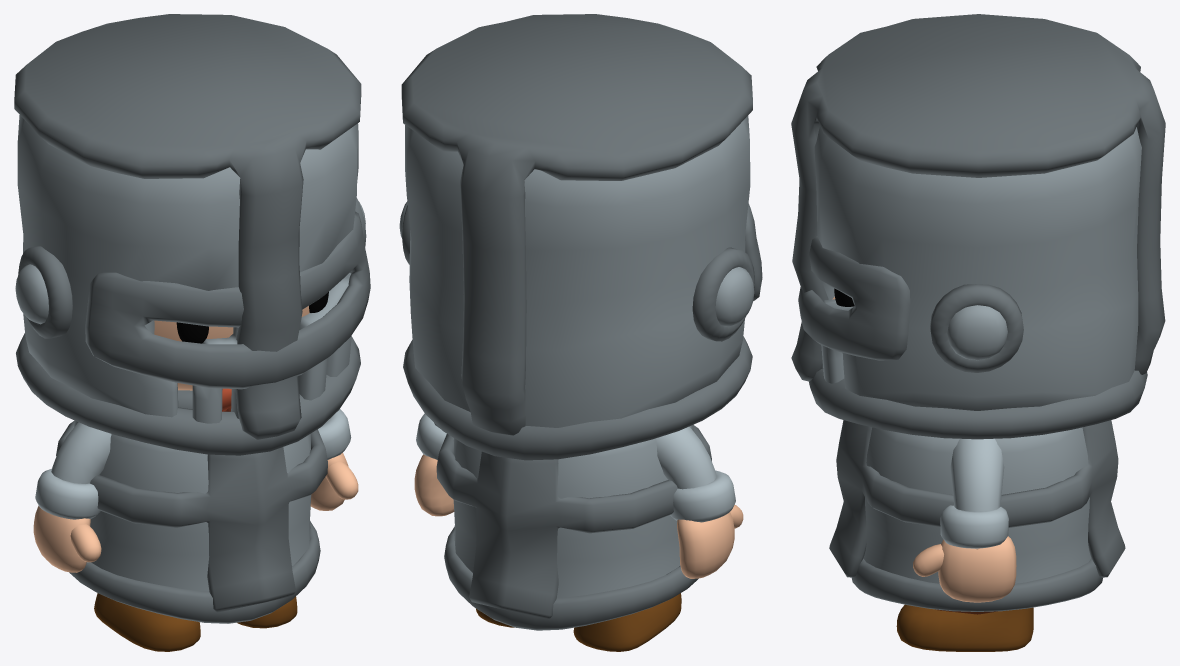
Rendered from Knight4final.glb.
The picture shows the model from 3 angles, left to right: view 1: azimuth 30°, elevation 25°; view 2: azimuth 150°, elevation 25°; view 3: azimuth 270°, elevation 25°; orthographic projection.
Visible parts, largest first — view 1: Knight4_Head, Knight4_Body, Knight4_Right_Arm, Knight4_Right_Foot, Knight4_Left_Arm, Knight4_Left_Foot; view 2: Knight4_Head, Knight4_Body, Knight4_Right_Arm, Knight4_Right_Foot, Knight4_Left_Arm; view 3: Knight4_Head, Knight4_Body, Knight4_Left_Arm, Knight4_Left_Foot.
Part boxes in pixels (x1,y1,x2,y2): Knight4_Head: [14, 14, 370, 455]; Knight4_Body: [56, 390, 327, 623]; Knight4_Right_Arm: [33, 422, 111, 572]; Knight4_Right_Foot: [94, 593, 200, 651]; Knight4_Left_Arm: [310, 409, 358, 510]; Knight4_Left_Foot: [237, 596, 297, 628]; Knight4_Head: [399, 14, 762, 460]; Knight4_Body: [436, 424, 711, 630]; Knight4_Right_Arm: [656, 426, 743, 578]; Knight4_Right_Foot: [573, 593, 681, 651]; Knight4_Left_Arm: [414, 413, 454, 516]; Knight4_Head: [791, 14, 1165, 439]; Knight4_Body: [829, 420, 1125, 614]; Knight4_Left_Arm: [913, 438, 1016, 602]; Knight4_Left_Foot: [896, 604, 1033, 651].
Bounding box in the file's own units: 1.89 × 2.87 × 1.82.
